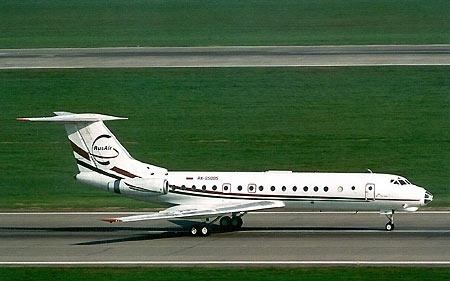airplane: (14, 108, 434, 239)
